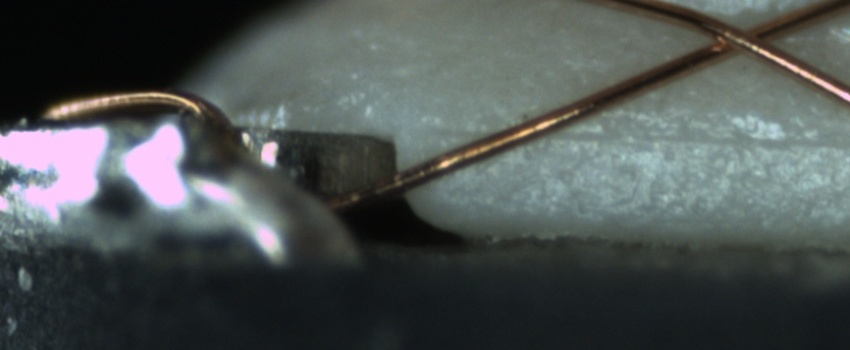CL: (691, 8, 792, 65)
DL: (425, 107, 850, 168)
TE: (33, 82, 243, 130)
